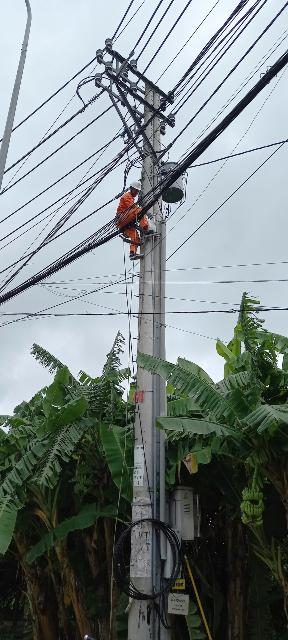gloves: (144, 211, 156, 220)
helmet: (127, 180, 145, 191), (107, 212, 132, 219)
shoes: (122, 248, 147, 261), (141, 226, 163, 240)
